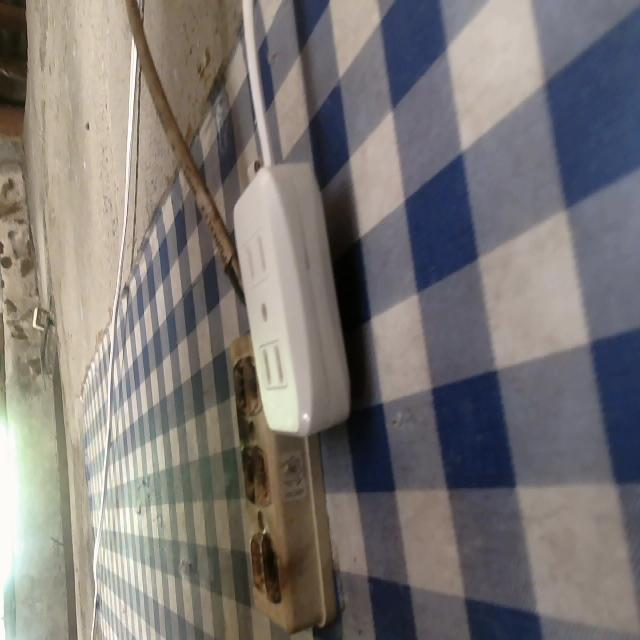-: (240, 528, 283, 601), (235, 445, 279, 507), (225, 355, 261, 413)
